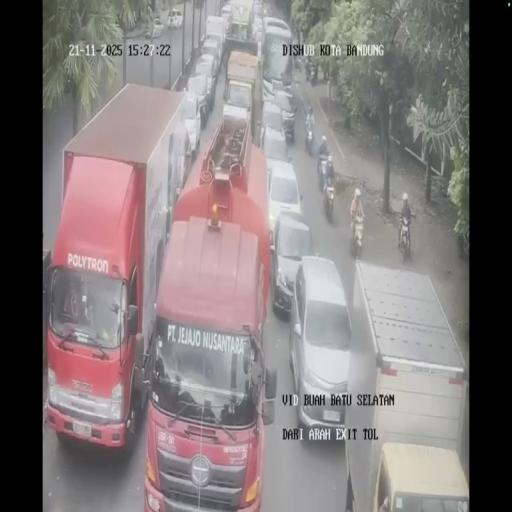car: (271, 209, 313, 316), (259, 101, 286, 154), (185, 73, 211, 128), (262, 72, 292, 107), (202, 30, 224, 70), (252, 16, 264, 46), (220, 3, 232, 28), (168, 8, 182, 28), (252, 0, 262, 18)
motorcycle: (321, 172, 335, 222), (398, 216, 413, 262), (305, 58, 315, 83)
truck: (335, 258, 467, 509)
